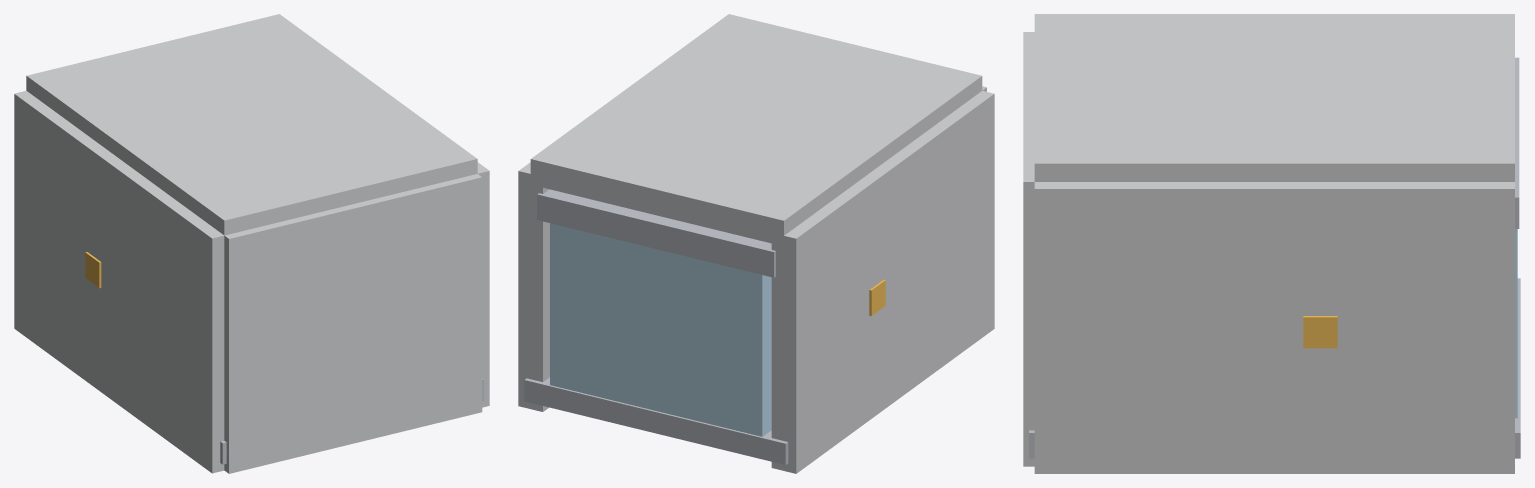
Rendered from capacete_astronauta.glb.
The picture shows the model from 3 angles, left to right: view 1: azimuth 30°, elevation 25°; view 2: azimuth 150°, elevation 25°; view 3: azimuth 270°, elevation 25°; orthographic projection. The views are drawn at different scales.
Visible parts, largest first — view 1: capacete_astronauta; view 2: capacete_astronauta; view 3: capacete_astronauta.
Boxes of the visible parts, bbox=[...] form: capacete_astronauta: bbox=[14, 14, 489, 473]; capacete_astronauta: bbox=[518, 14, 994, 473]; capacete_astronauta: bbox=[1023, 14, 1520, 473].
Bounding box in the file's own units: 0.69 × 0.585 × 0.87.
